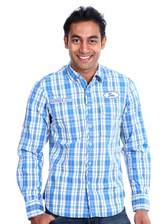clothoes: (17, 62, 151, 217)
